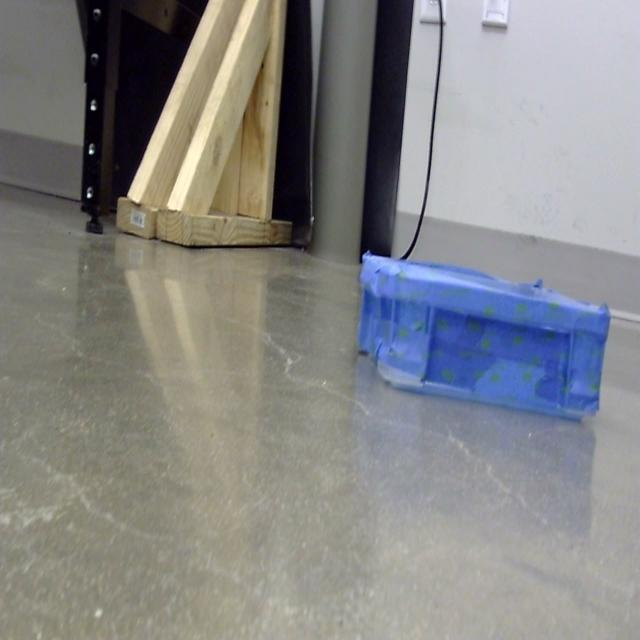bucket: (360, 255, 611, 421)
